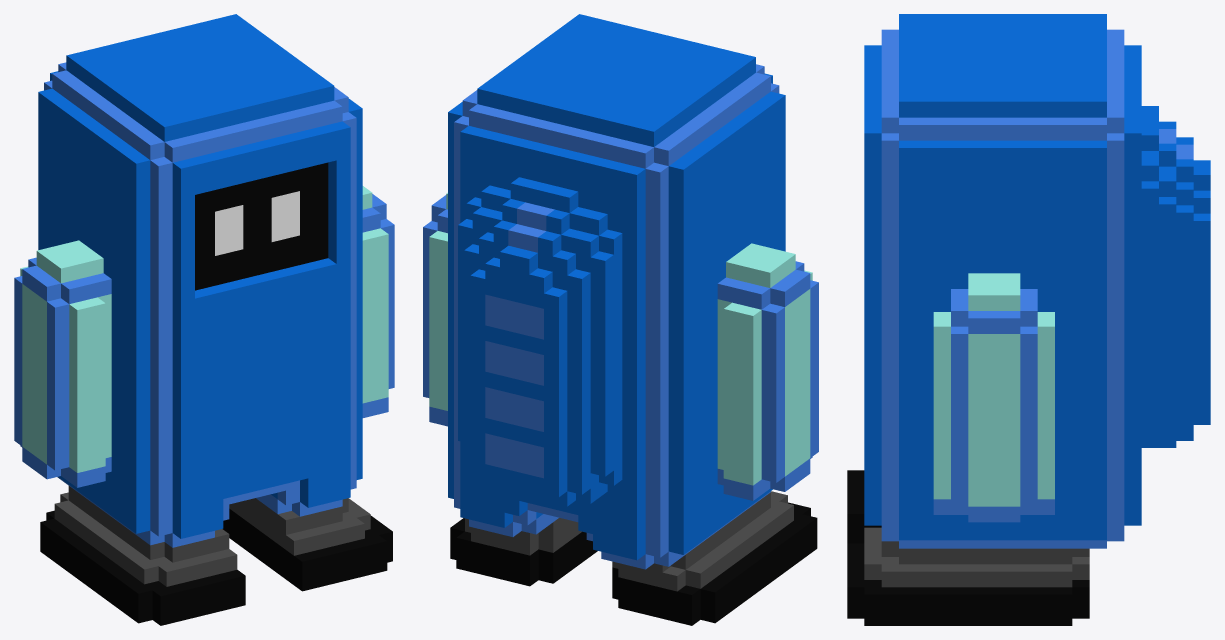
File: Roboto.fbx
3 views of the same model, side by side, from view 1: azimuth 30°, elevation 25°; view 2: azimuth 150°, elevation 25°; view 3: azimuth 270°, elevation 25° (orthographic). The views are drawn at different scales.
Parts seen in each view (by area): view 1: Roboto_V2_idle_combined; view 2: Roboto_V2_idle_combined; view 3: Roboto_V2_idle_combined.
Part boxes in pixels (x1,y1,x2,y2): Roboto_V2_idle_combined: [14, 14, 394, 625]; Roboto_V2_idle_combined: [423, 14, 818, 625]; Roboto_V2_idle_combined: [847, 14, 1210, 625].
Size of the model in its own units: 24 by 32 by 21.
1 material, 1 textured.
